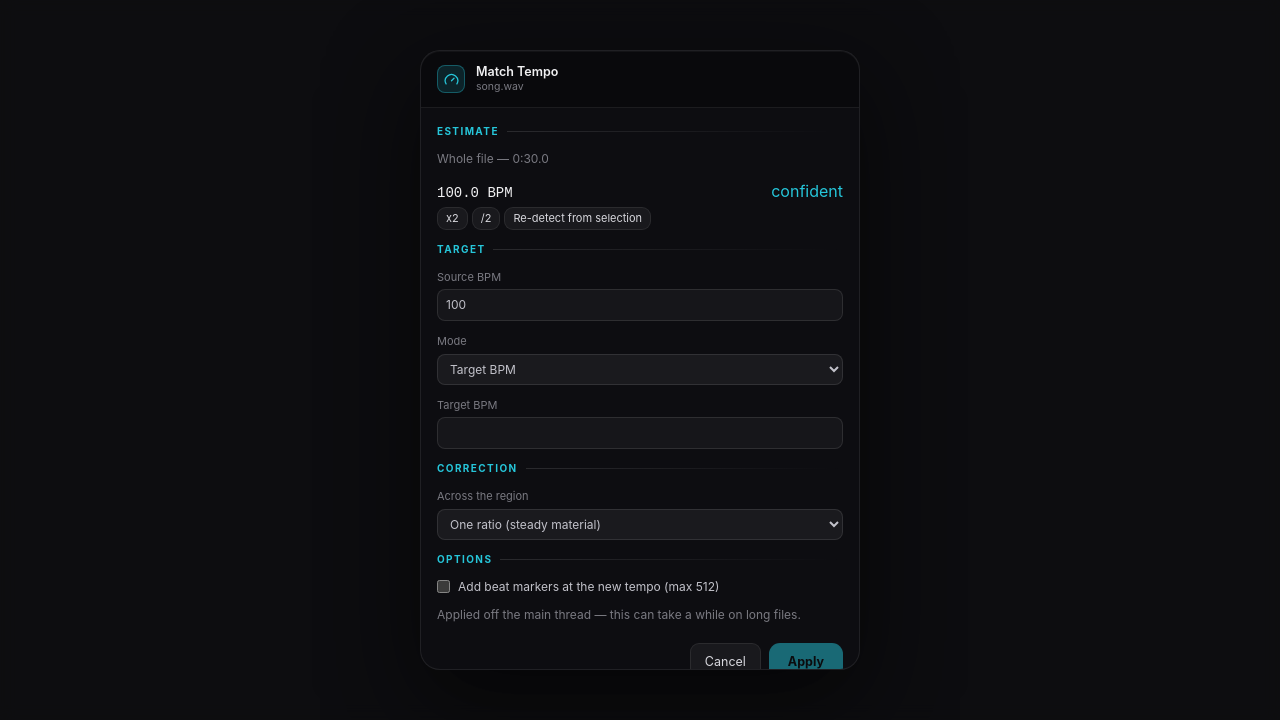
TempoDialog › 7. source === target disables Apply with "Target equals source tempo."
This screenshot has width=1280, height=720.
Type "100" into the number field with test id "tempo-target" at (640, 433), box x1=437 y1=417 x2=843 y2=449
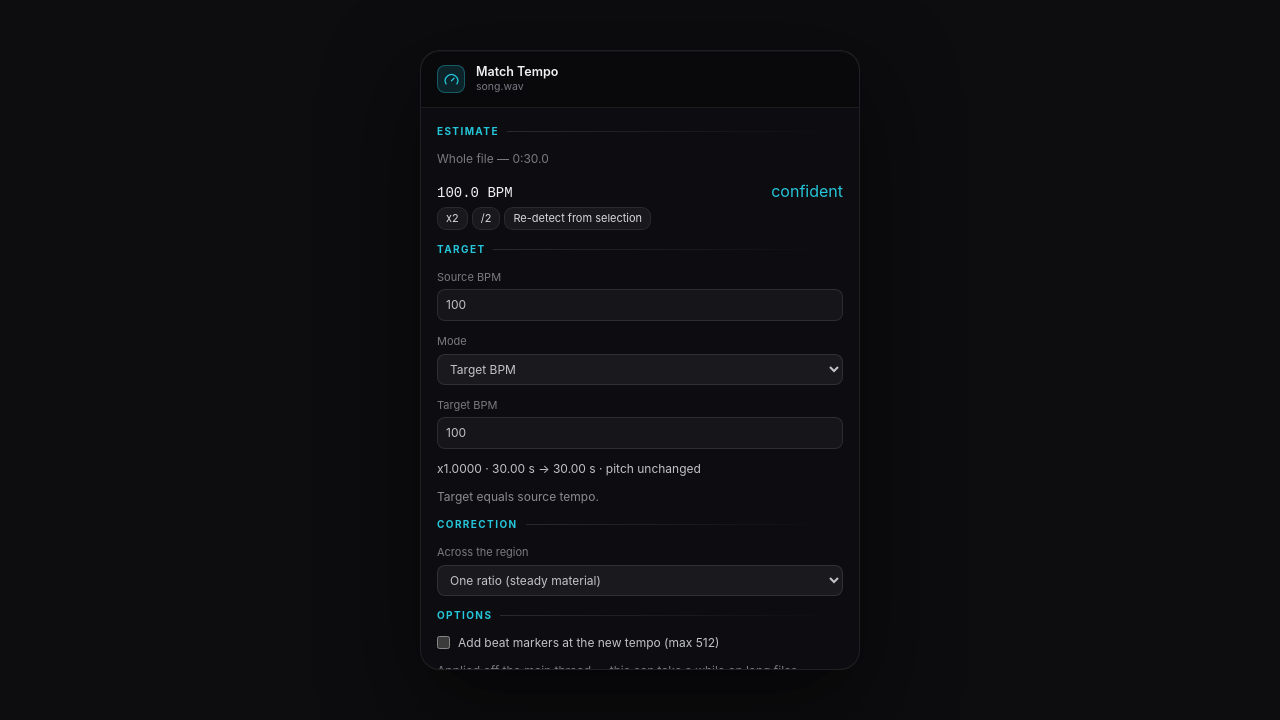
Expected: the text with test id "tempo-quality" reads "Target equals source tempo.", x1=437 y1=489 x2=599 y2=504
